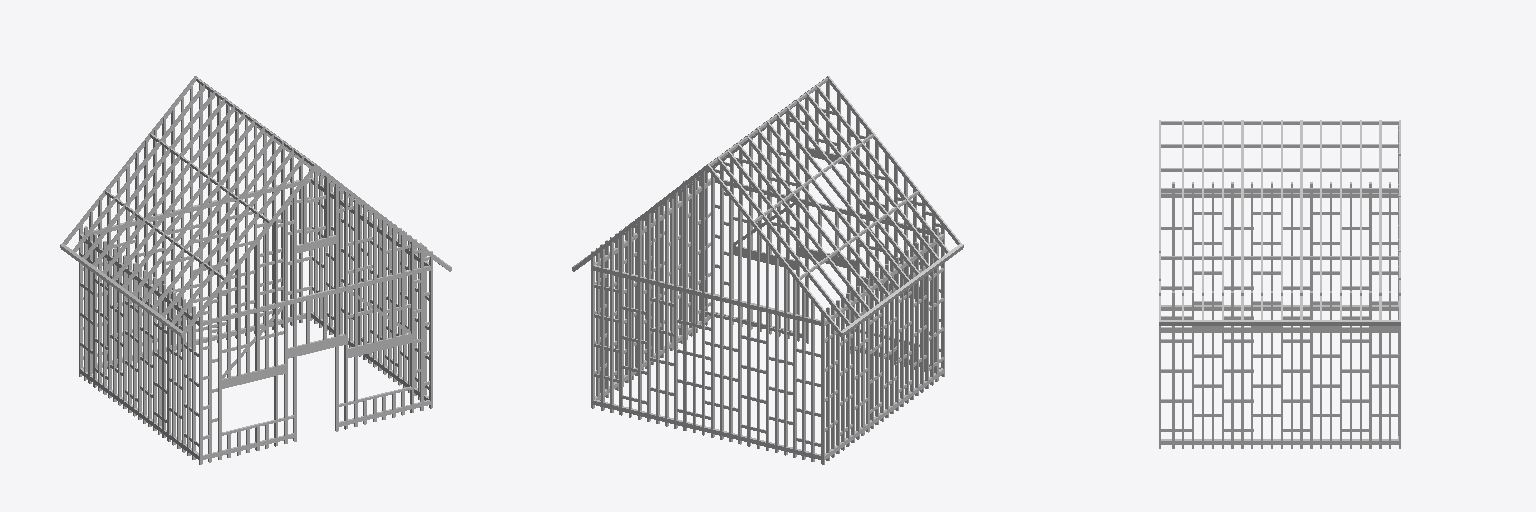
Rendered from Frame_SteepAngledCrossed.obj.
3 views of the same model, side by side, from view 1: azimuth 30°, elevation 25°; view 2: azimuth 150°, elevation 25°; view 3: azimuth 270°, elevation 25° (orthographic).
Visible parts, largest first — view 1: Frame_SteepAngledCrossed1; view 2: Frame_SteepAngledCrossed1; view 3: Frame_SteepAngledCrossed1.
Boxes of the visible parts, x1=… form: Frame_SteepAngledCrossed1: x1=60, y1=76, x2=451, y2=464; Frame_SteepAngledCrossed1: x1=572, y1=76, x2=963, y2=464; Frame_SteepAngledCrossed1: x1=1159, y1=120, x2=1400, y2=448.
Bounding box in the file's own units: 638 × 612 × 495.